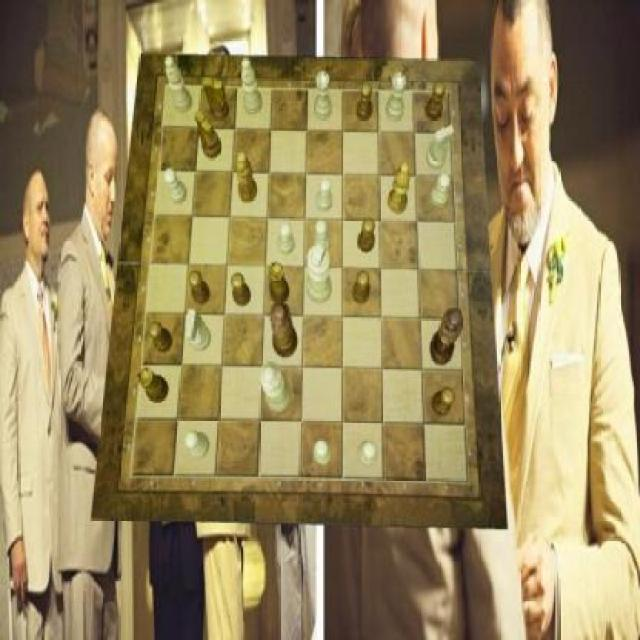bishop: (388, 161, 410, 214), (237, 150, 258, 202)
black-bishop: (430, 308, 462, 366)
black-king: (195, 111, 222, 160), (203, 78, 229, 121)
black-knight: (189, 269, 212, 304), (149, 321, 173, 354), (426, 82, 446, 120), (432, 388, 456, 417), (231, 274, 251, 308), (357, 83, 373, 122), (352, 270, 370, 304), (357, 219, 375, 253)
black-pawn: (271, 302, 298, 359)
black-queen: (137, 366, 169, 402), (269, 261, 290, 304)
black-rook: (166, 55, 194, 113), (241, 59, 264, 114)
white-bishop: (306, 243, 332, 303)
white-king: (426, 125, 454, 170), (184, 309, 210, 352)
white-knight: (165, 168, 188, 204), (431, 172, 451, 207), (186, 431, 211, 458), (277, 222, 295, 256), (314, 219, 331, 253), (317, 178, 334, 212), (358, 441, 378, 467), (313, 438, 332, 464)
white-pawn: (258, 361, 292, 414)
white-queen: (386, 74, 406, 123), (314, 71, 331, 120)
